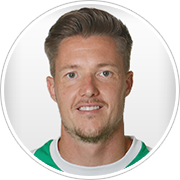face: (42, 49, 136, 127)
